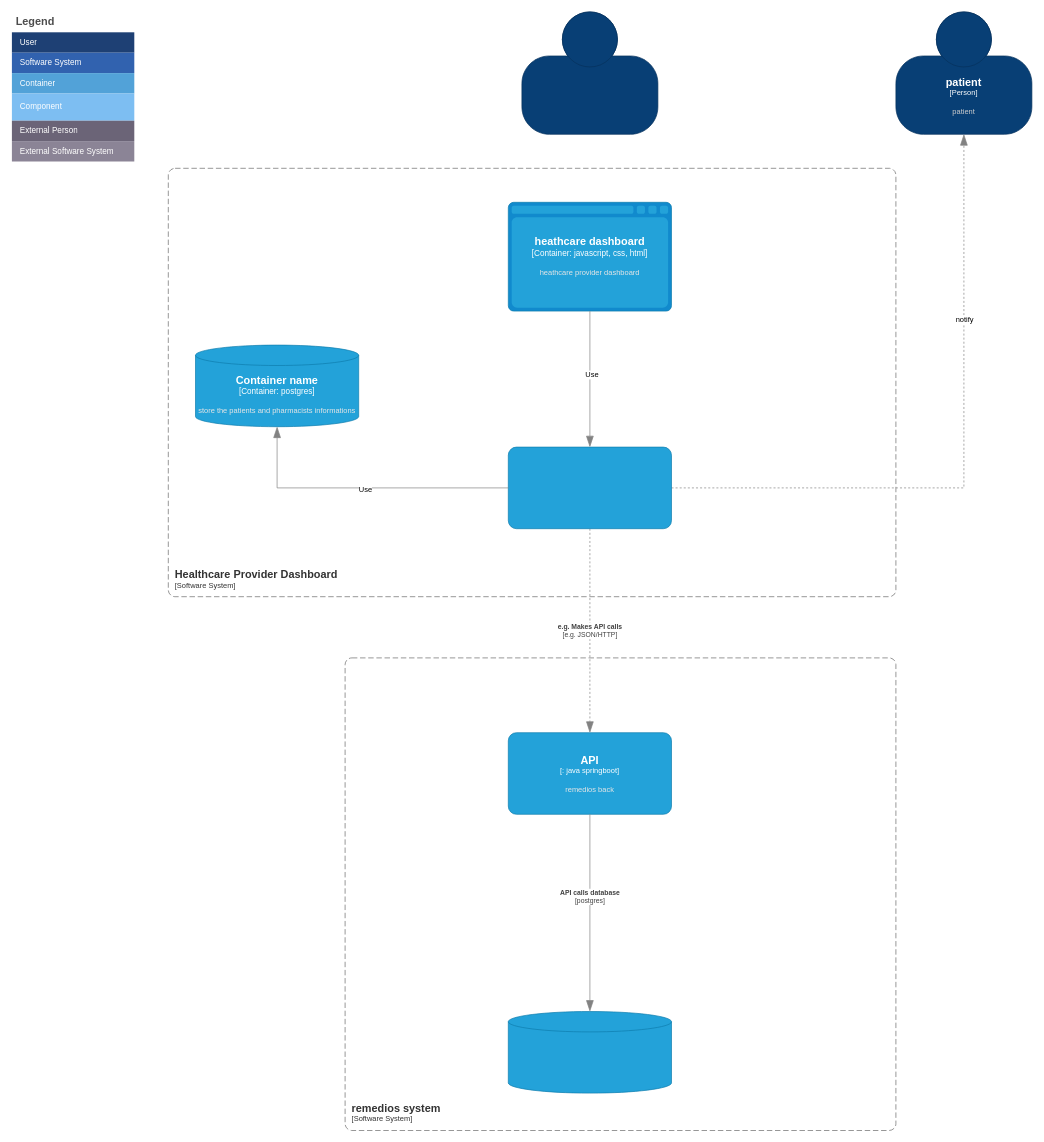
Image size: 1044x1142. Some labels were removed from this diagram. Here are the shapes that lost their labels. From the top down, the centre of each, then its label:
At (x=589, y=72): "Pharmacist [Person] Pharmacist".
At (x=590, y=487): "heathcare backend [Container: java] heathcare provider backend".
At (x=590, y=1052): "Database [Database: postgresql] storage of medicine system".
